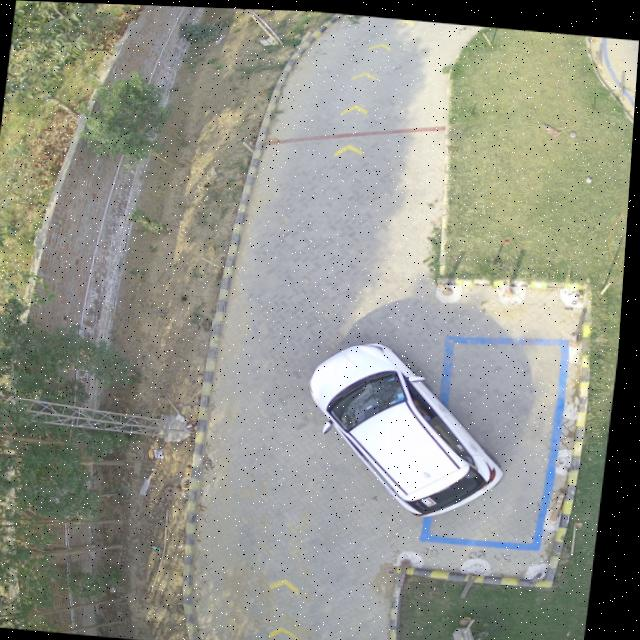car: (316, 338, 510, 512)
